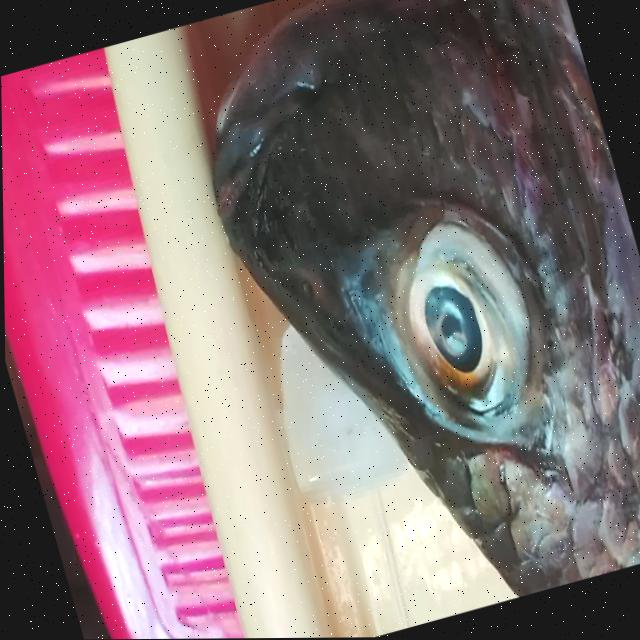Fresh: (334, 146, 581, 488)
